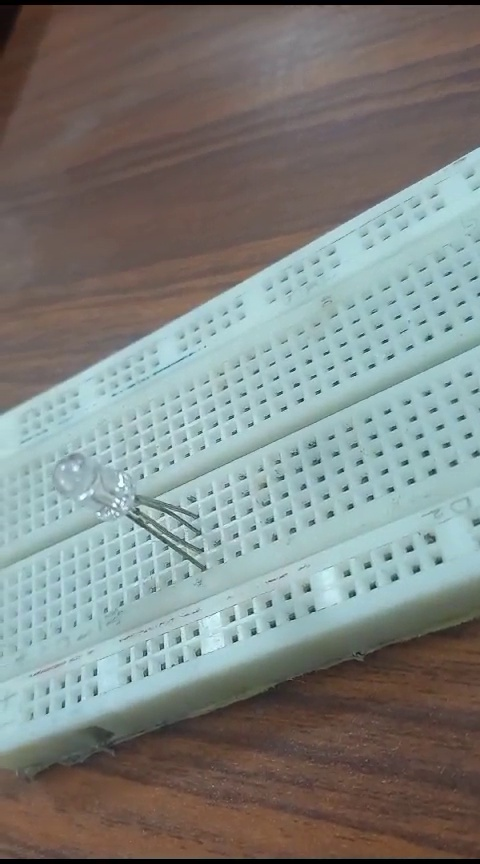LED: (44, 440, 204, 572)
